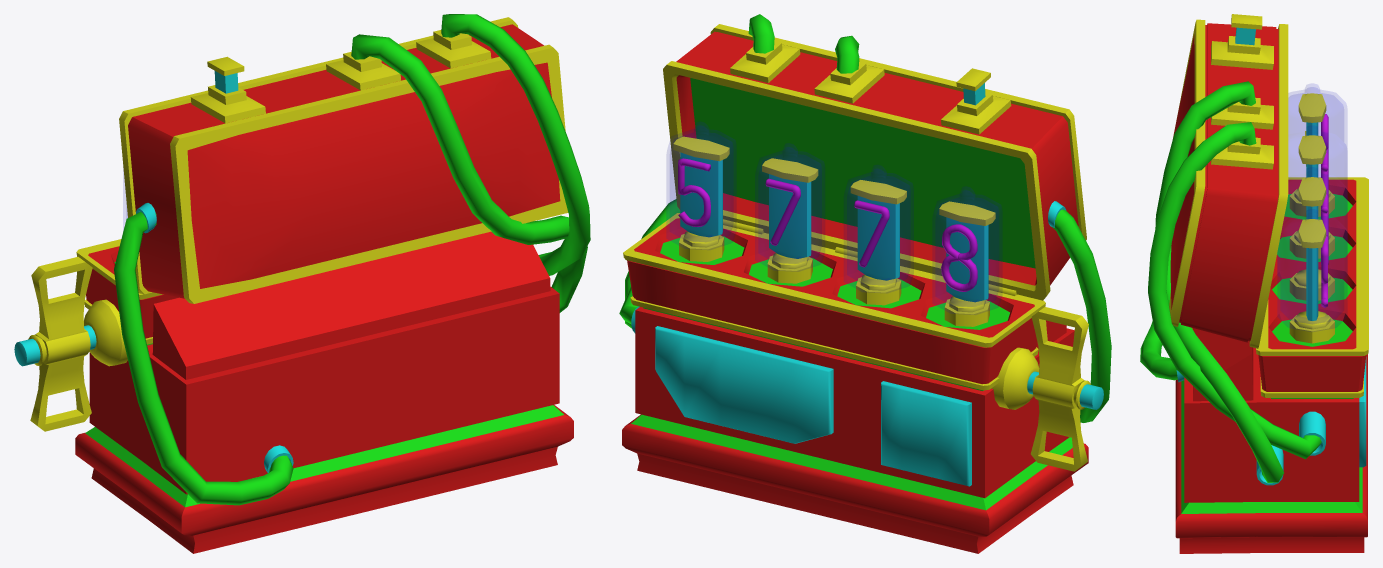
Rendered from Backwards_Clock(1).fbx.
3 views of the same model, side by side, from view 1: azimuth 30°, elevation 25°; view 2: azimuth 150°, elevation 25°; view 3: azimuth 270°, elevation 25° (orthographic). The views are drawn at different scales.
Visible parts, largest first — view 1: Backwards Clock; view 2: Backwards Clock; view 3: Backwards Clock.
Part boxes in pixels (x1,y1,x2,y2): Backwards Clock: [14, 14, 590, 553]; Backwards Clock: [619, 14, 1111, 553]; Backwards Clock: [1140, 14, 1368, 553].
Bounding box in the file's own units: 78.12 × 62.75 × 32.04.
